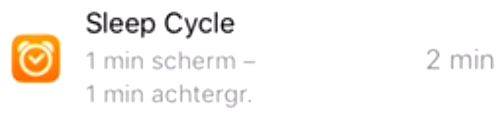name: (76, 6, 248, 40)
time: (80, 79, 149, 107), (81, 48, 149, 74)
